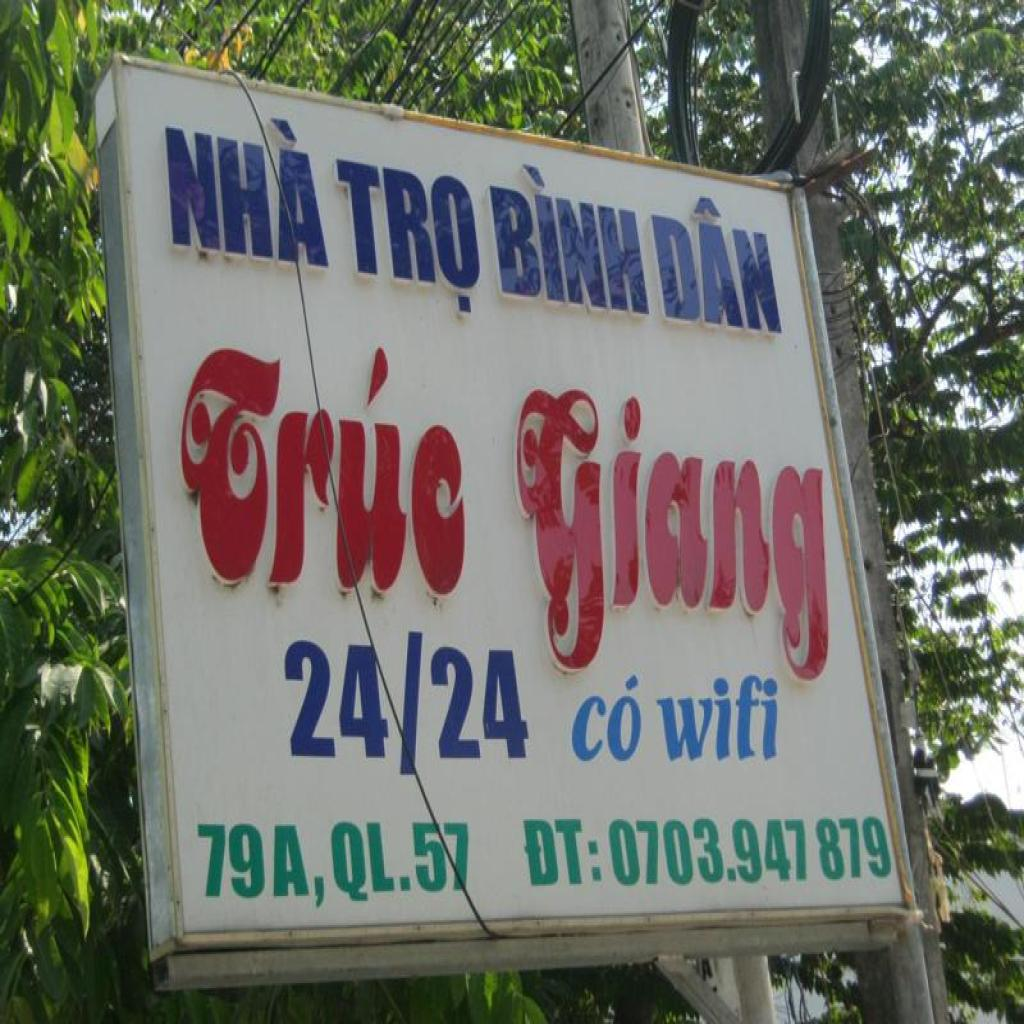text: (516, 377, 838, 686), (176, 326, 470, 608), (280, 626, 532, 780), (160, 96, 332, 272), (484, 155, 653, 319), (331, 150, 489, 316), (194, 820, 472, 912), (645, 188, 786, 338), (653, 671, 782, 766), (568, 672, 648, 768), (520, 812, 606, 892)
